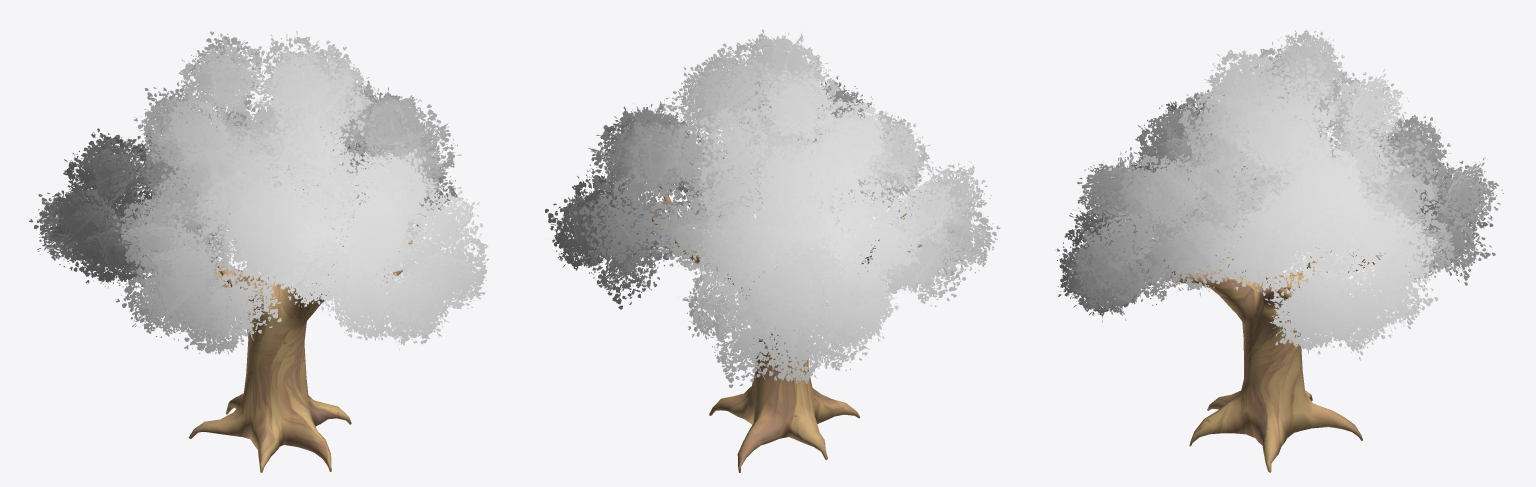
File: SM_ENV_tree_ancient_03.fbx
3 views of the same model, side by side, from view 1: azimuth 30°, elevation 25°; view 2: azimuth 150°, elevation 25°; view 3: azimuth 270°, elevation 25° (orthographic).
Parts seen in each view (by area): view 1: SM_ENV_tree_ancient_03_LOD0; view 2: SM_ENV_tree_ancient_03_LOD0; view 3: SM_ENV_tree_ancient_03_LOD0.
Part boxes in pixels (left/top/right/bottom): SM_ENV_tree_ancient_03_LOD0: left=29, top=30, right=488, bottom=472; SM_ENV_tree_ancient_03_LOD0: left=545, top=29, right=1000, bottom=472; SM_ENV_tree_ancient_03_LOD0: left=1056, top=29, right=1503, bottom=472.
Size of what is drawn, in the model's own units: 1525 by 1499 by 1597.
